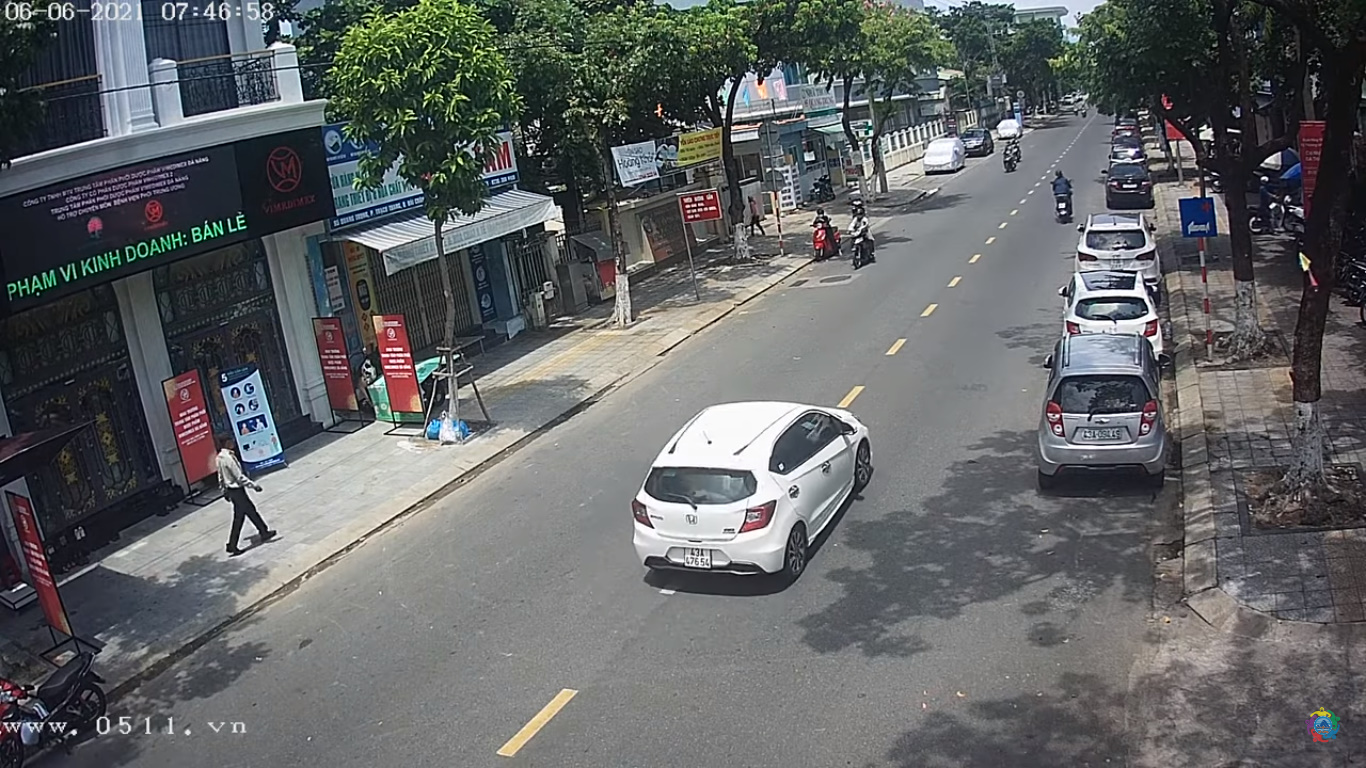car: (629, 397, 876, 584)
